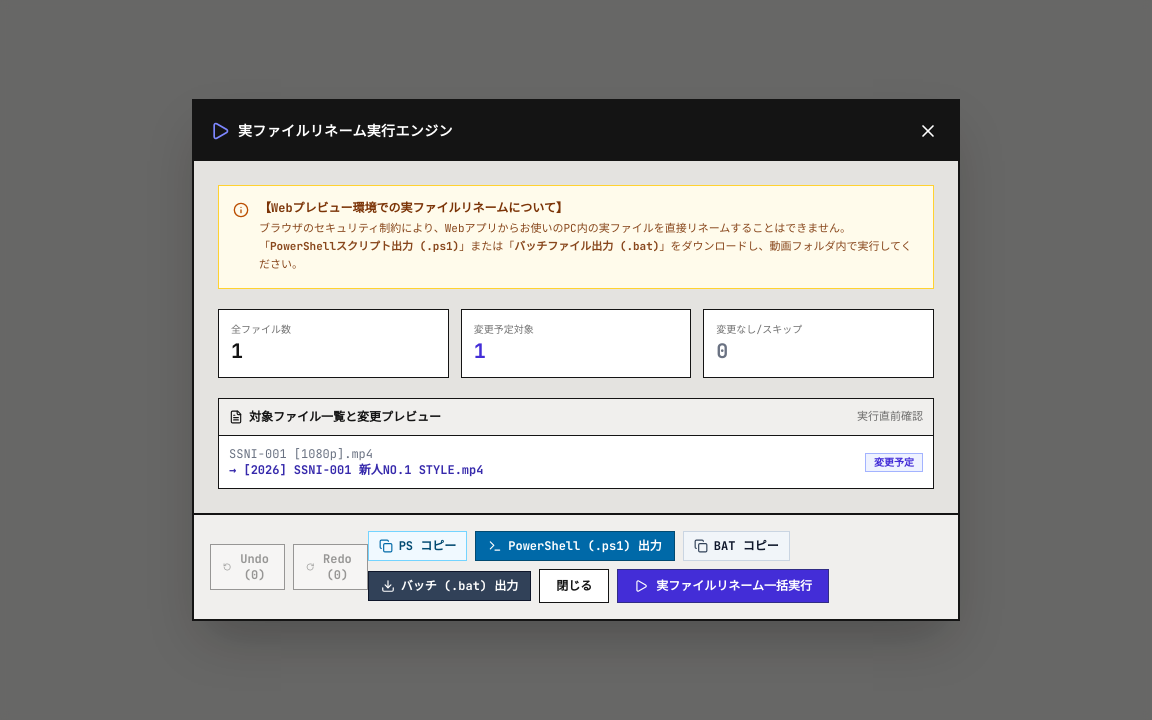
Test: RenameExecutionModal Component Suite › copies PowerShell script to clipboard and shows feedback
This screenshot has width=1152, height=720.
Click the button "PS コピー".
click(417, 546)  # box top-left (368, 531), bottom-right (467, 561)
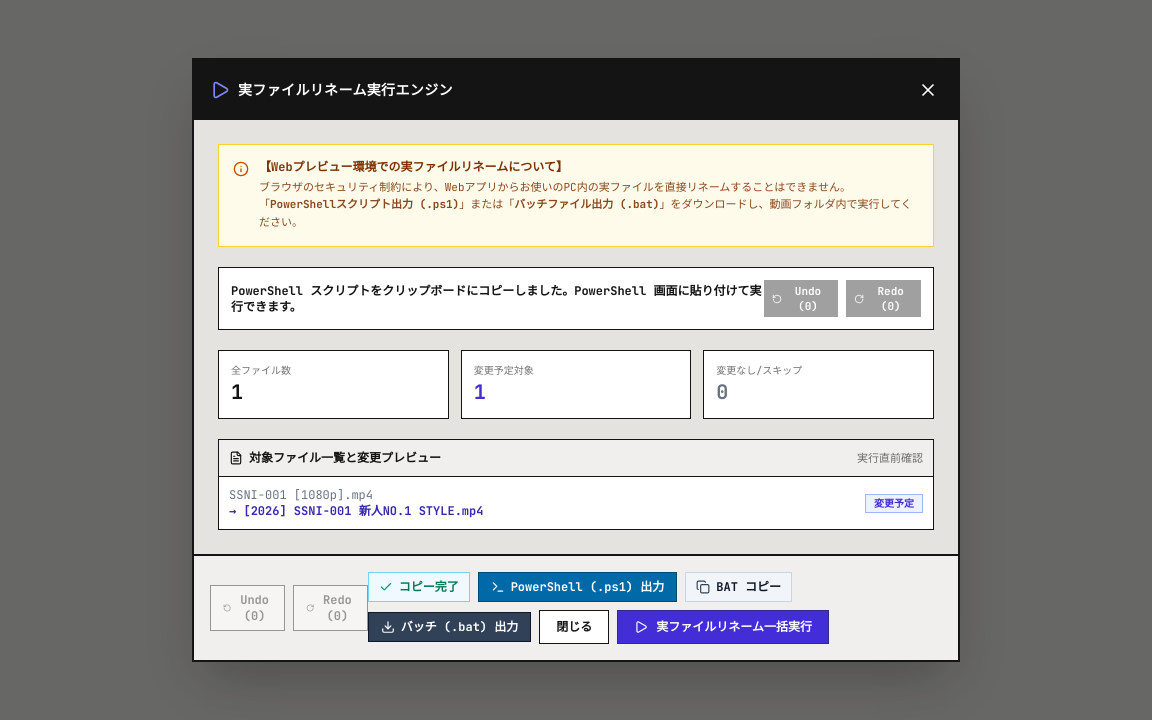
Result: the text "PowerShell スクリプトをクリップボードにコピーしました。PowerShell 画面に貼り付けて実行できます。" is shown at top-left (231, 283), bottom-right (764, 315)
